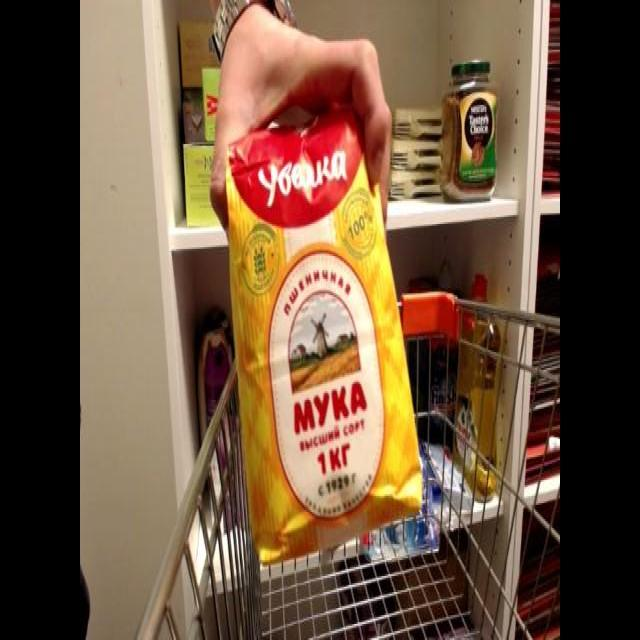Flour: (225, 95, 419, 563)
